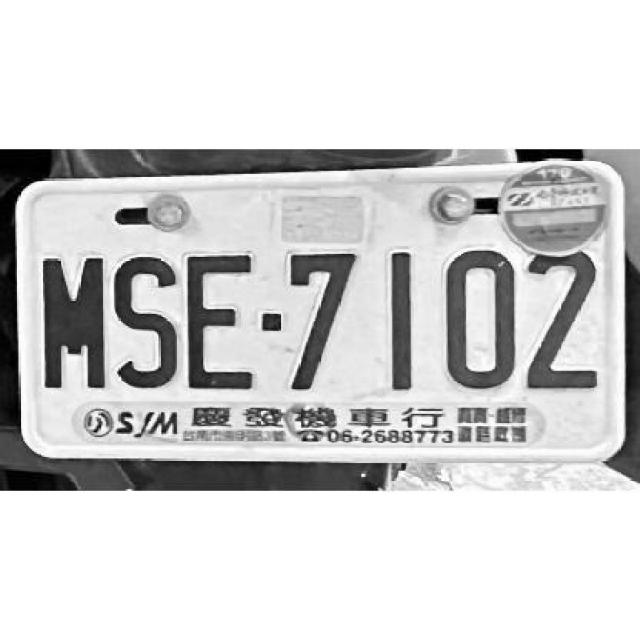-: (263, 308, 283, 329)
0: (438, 243, 517, 391)
1: (390, 238, 416, 389)
2: (520, 246, 598, 392)
7: (284, 245, 362, 392)
E: (182, 249, 252, 386)
M: (35, 252, 108, 394)
S: (111, 252, 178, 391)
